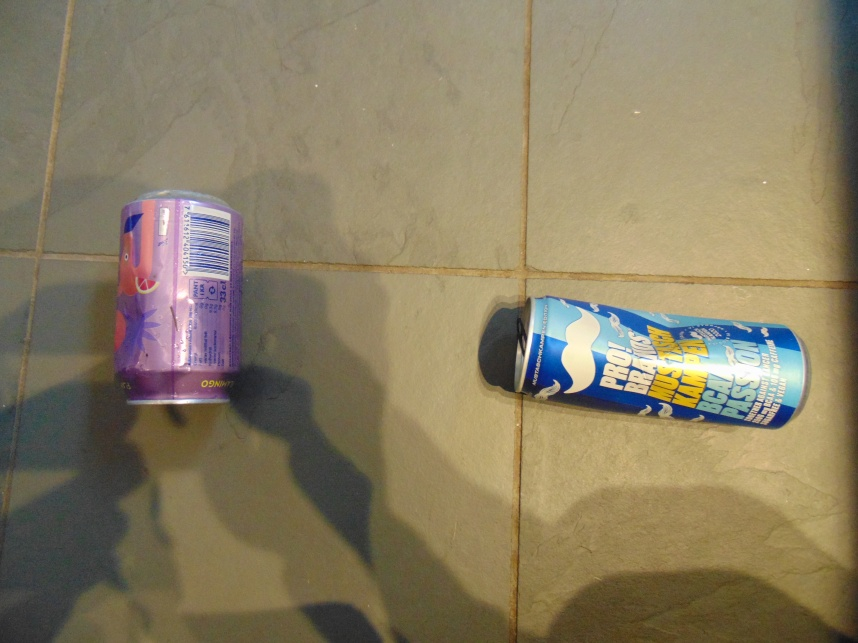metal_can: (512, 293, 813, 432), (113, 187, 243, 409)
